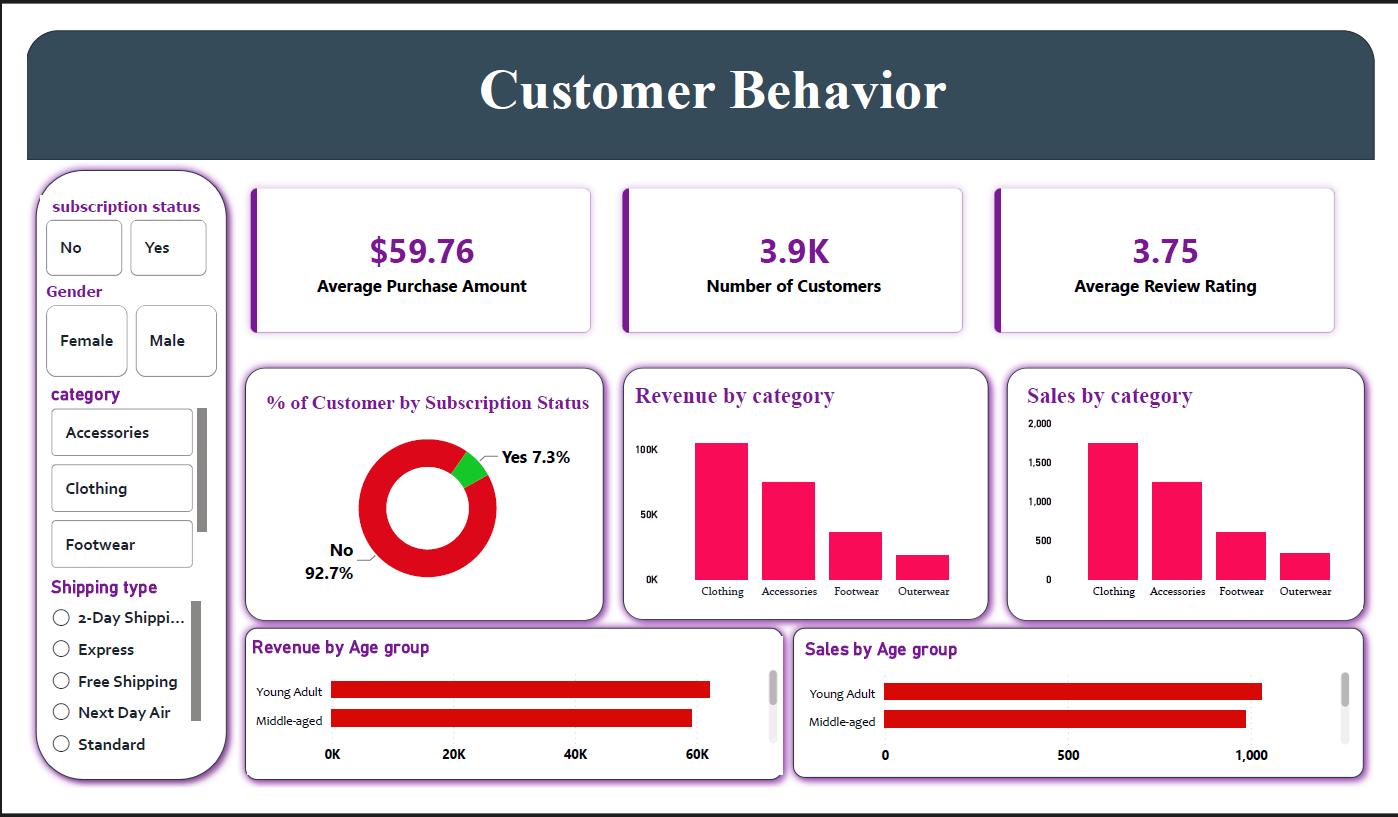

What the dashboard file says about the page in this screenshot:
{"tool":"powerbi","page":{"name":"Page 1","canvas":[1280,720],"ordinal":0},"visuals":[{"type":"cardVisual","fields":{"Data":["public customer.Average Purchase Amount","public customer.Number of Customers","public customer.Average Review Rating"]},"box":[185.5,124.9,1081.3,189.4],"z":0},{"type":"shape","box":[-1.1,1.4,1280,122.9],"z":1000},{"type":"textbox","box":[261.8,21.4,778.6,92.9],"z":2000},{"type":"shape","box":[197.9,312.9,358.1,258],"z":3000},{"type":"shape","box":[557.4,312.9,365,256.6],"z":4000},{"type":"donutChart","title":"% of Customer by Subscription Status","fields":{"Category":["public customer.subscription_status"],"Y":["Sum(public customer.customer_id)"]},"box":[218.5,343.1,323.8,201.7],"z":5000},{"type":"shape","box":[921,312.9,358.1,258],"z":6000},{"type":"clusteredColumnChart","title":"Revenue by category","fields":{"Y":["Sum(public customer.purchase_amount)"],"Category":["public customer.category"]},"box":[572.5,336.2,334.8,214.1],"z":7000},{"type":"clusteredColumnChart","title":"Sales by category","fields":{"Category":["public customer.category"],"Y":["CountNonNull(public customer.customer_id)"]},"box":[944.4,336.2,322.5,214.1],"z":8000},{"type":"shape","box":[-1.1,124.9,199,596.9],"z":9000},{"type":"advancedSlicerVisual","title":"subscription status","fields":{"Values":["public customer.subscription_status"]},"box":[12.6,157.8,161.9,81],"z":10000},{"type":"advancedSlicerVisual","title":"Gender","fields":{"Values":["public customer.gender"]},"box":[12.6,238.8,172.9,96.1],"z":11000},{"type":"listSlicer","title":"Shipping type","fields":{"Values":["public customer.shipping_type"]},"box":[18.1,518.7,150.9,172.9],"z":12000},{"type":"advancedSlicerVisual","fields":{"Values":["public customer.category"]},"box":[18.1,336.2,156.4,182.5],"z":13000},{"type":"shape","box":[197.9,559.9,528.3,161.9],"z":14000},{"type":"shape","box":[717.5,560,560,160],"z":15000},{"type":"clusteredBarChart","title":"Revenue by Age group","fields":{"Y":["Sum(public customer.purchase_amount)"],"Category":["public customer.age_group"]},"box":[208.8,576.4,507.7,130.4],"z":16000},{"type":"clusteredBarChart","title":"Sales by Age group","fields":{"Category":["public customer.age_group"],"Y":["CountNonNull(public customer.customer_id)"]},"box":[734.4,577.7,525.6,130.4],"z":17000}]}

Visuals, with their boxes in screenshot pixels (x1, y1, x2, y2):
cardVisual - public customer.Average Purchase Amount x public customer.Number of Customers: 211:160:1375:364
shape: 10:27:1388:159
textbox: 293:49:1132:149
shape: 224:363:610:640
shape: 611:363:1004:639
"% of Customer by Subscription Status" donutChart: 246:395:595:612
shape: 1003:363:1389:640
"Revenue by category" clusteredColumnChart: 628:388:988:618
"Sales by category" clusteredColumnChart: 1028:388:1375:618
shape: 10:160:224:803
"subscription status" advancedSlicerVisual: 24:195:199:283
"Gender" advancedSlicerVisual: 24:283:211:386
"Shipping type" listSlicer: 30:584:193:770
advancedSlicerVisual - public customer.category: 30:388:199:584
shape: 224:629:793:803
shape: 784:629:1387:801
"Revenue by Age group" clusteredBarChart: 236:646:783:787
"Sales by Age group" clusteredBarChart: 802:648:1368:788
